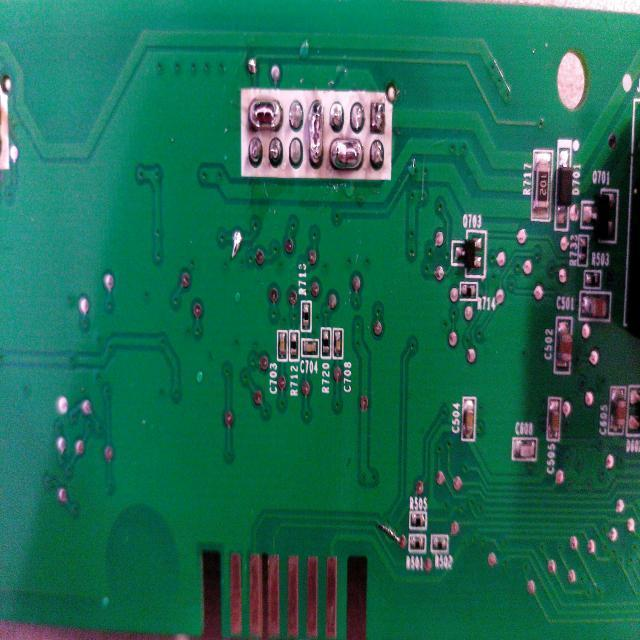Soldering shorted: (328, 137, 368, 183), (248, 94, 283, 138), (306, 99, 324, 171)
